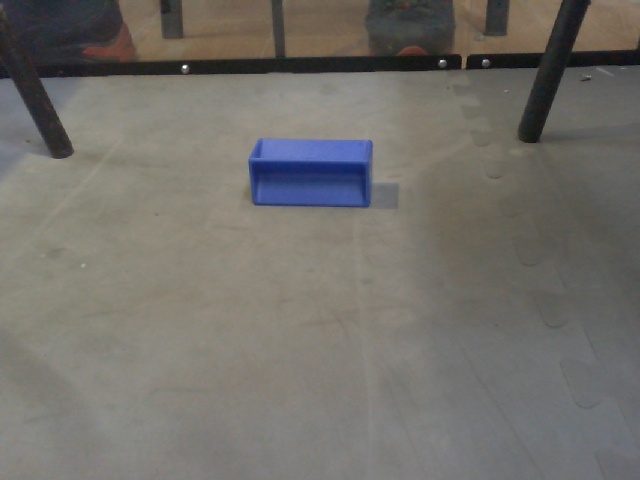BlueSample: (246, 135, 377, 211)
